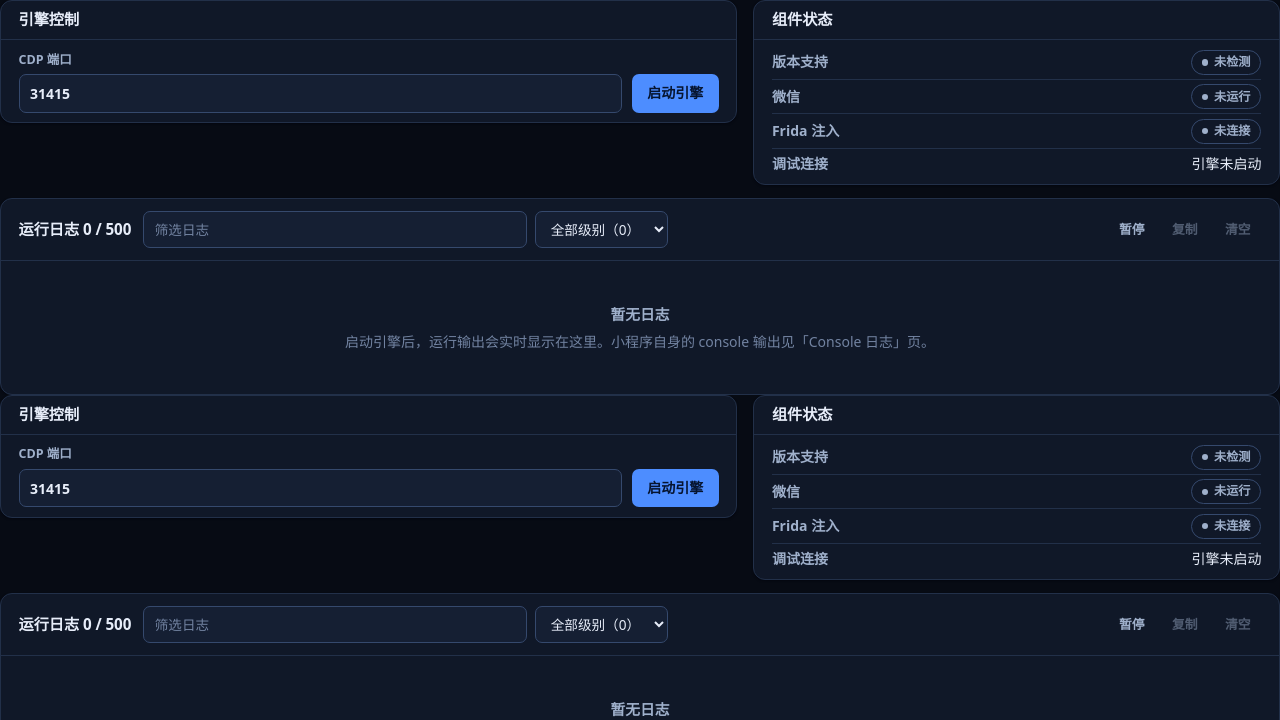
ControlView › leaves the paused view when the log is cleared
The image size is (1280, 720).
Click the 2nd button with test id "pause-log" at [1132, 625], box [1108,610,1155,640]
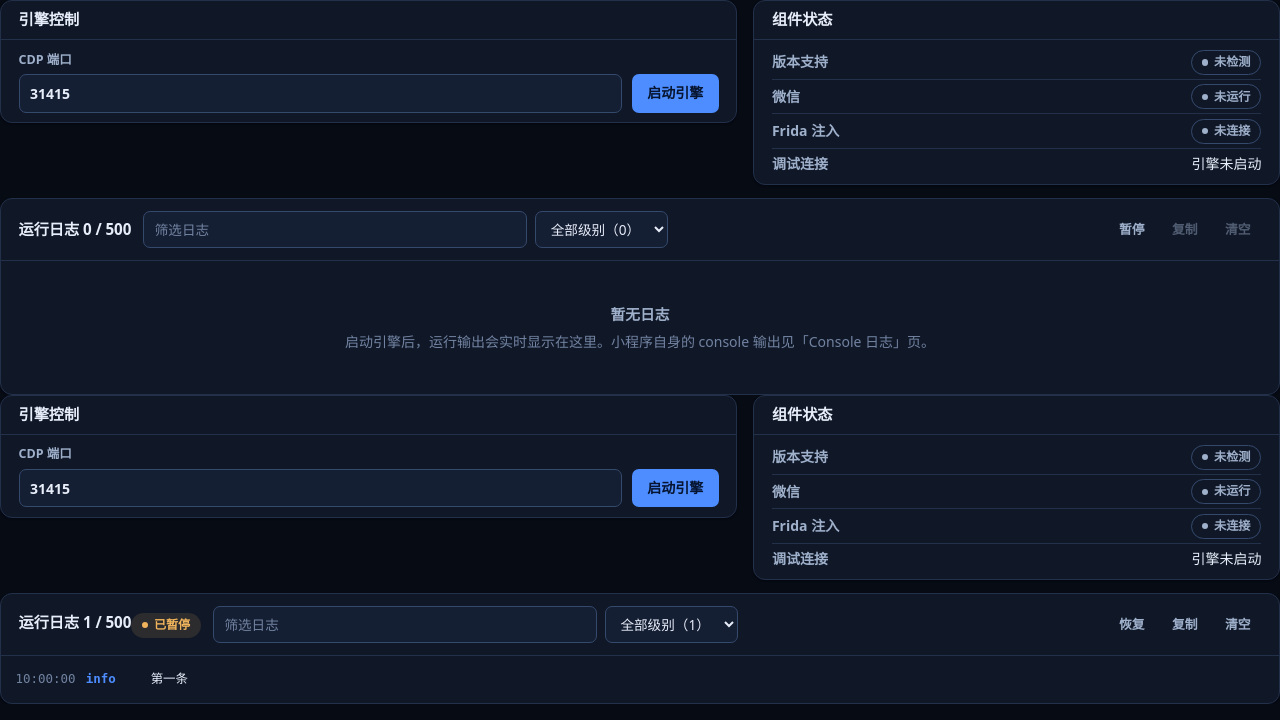
expect the text "已暂停" is shown: met, box [131,613,201,638]
Click the button with test id "clear-log" in the row of "已暂停" at [1238, 625], box [1214,610,1261,640]
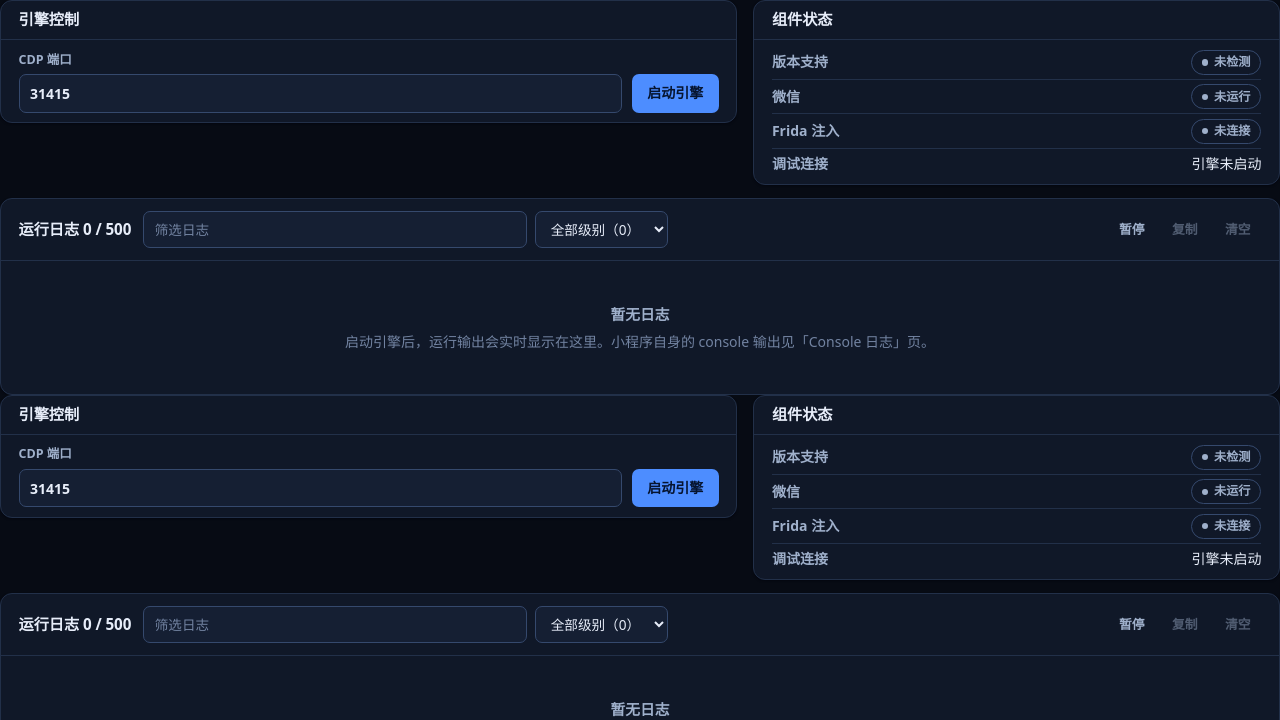
expect the text "已暂停" is gone: met
expect the 2nd button with test id "pause-log" reads "暂停": met, box [1108,610,1155,640]
